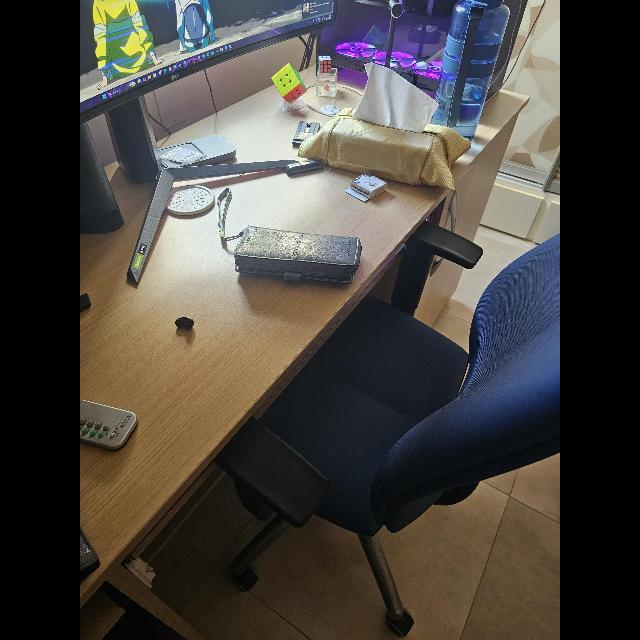Wallet: (231, 223, 357, 280)
